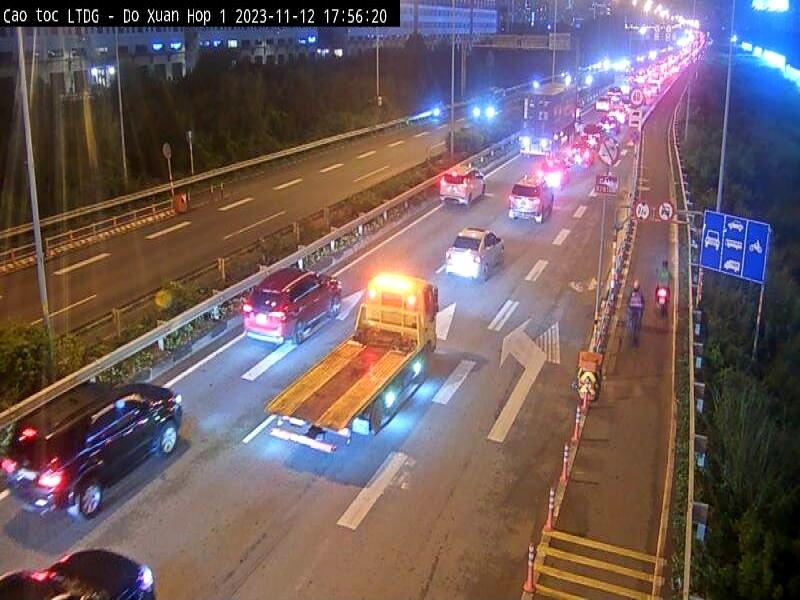truck: (266, 272, 440, 461)
